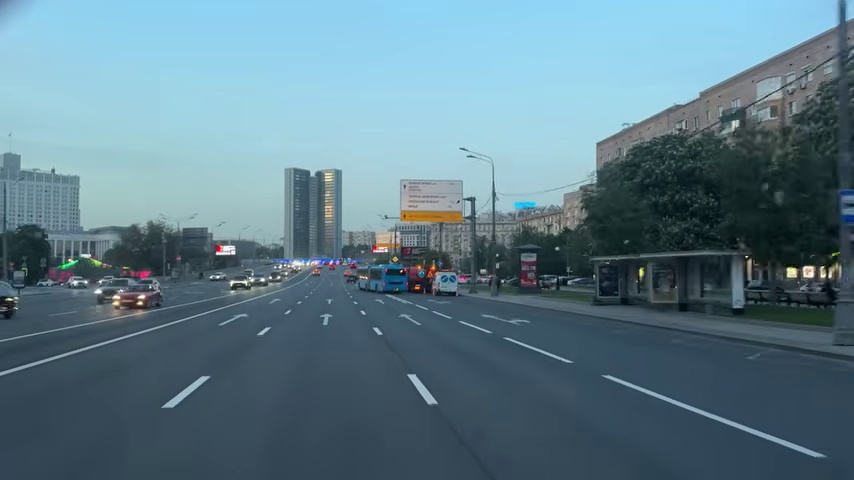apagada: (457, 143, 476, 160)
